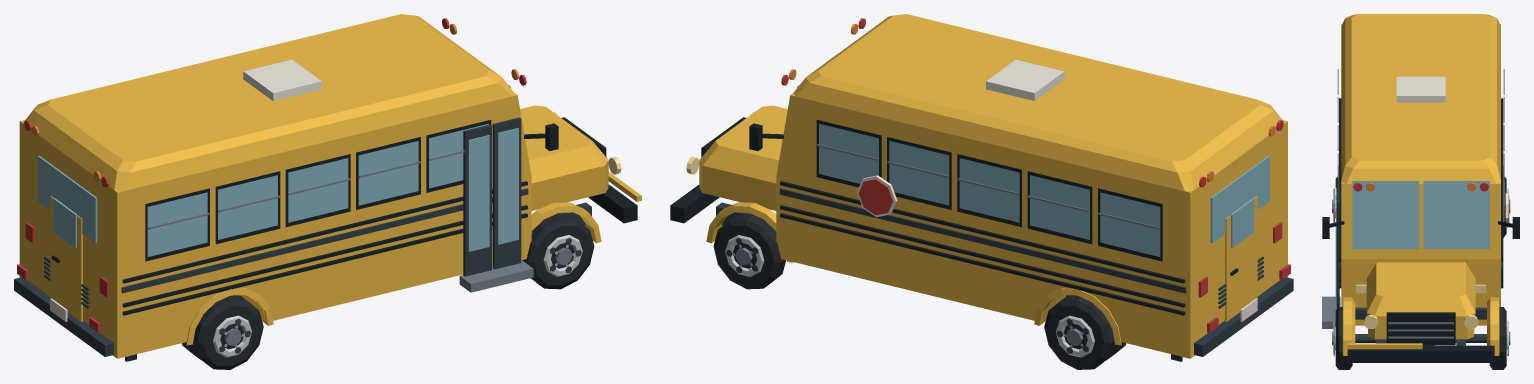
The model's file is b15_short_school_bus.glb.
3 views of the same model, side by side, from view 1: azimuth 30°, elevation 25°; view 2: azimuth 150°, elevation 25°; view 3: azimuth 270°, elevation 25° (orthographic). The views are drawn at different scales.
Parts seen in each view (by area): view 1: b15_short_school_bus; view 2: b15_short_school_bus; view 3: b15_short_school_bus.
Part boxes in pixels (x1,y1,x2,y2): b15_short_school_bus: (14,14,641,369); b15_short_school_bus: (670,14,1293,369); b15_short_school_bus: (1322,14,1519,369).
Bounding box in the file's own units: 7.74 × 3.18 × 3.01.
